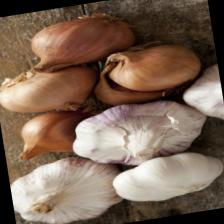onion: (86, 38, 207, 110), (22, 6, 138, 75), (0, 56, 102, 121), (10, 104, 102, 161)
